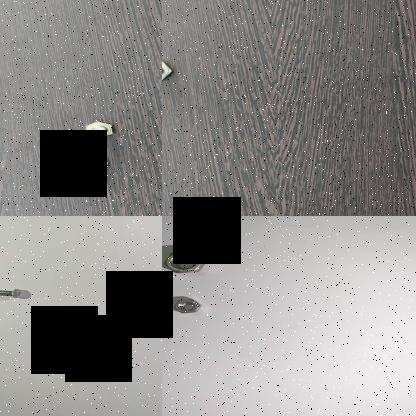Bolts: (81, 120, 115, 140), (82, 155, 112, 174), (0, 284, 27, 302), (162, 58, 174, 82)
NUTS: (162, 250, 207, 276), (170, 298, 202, 316)
